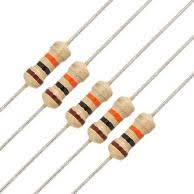resistor: (106, 111, 160, 173), (20, 36, 75, 95)
